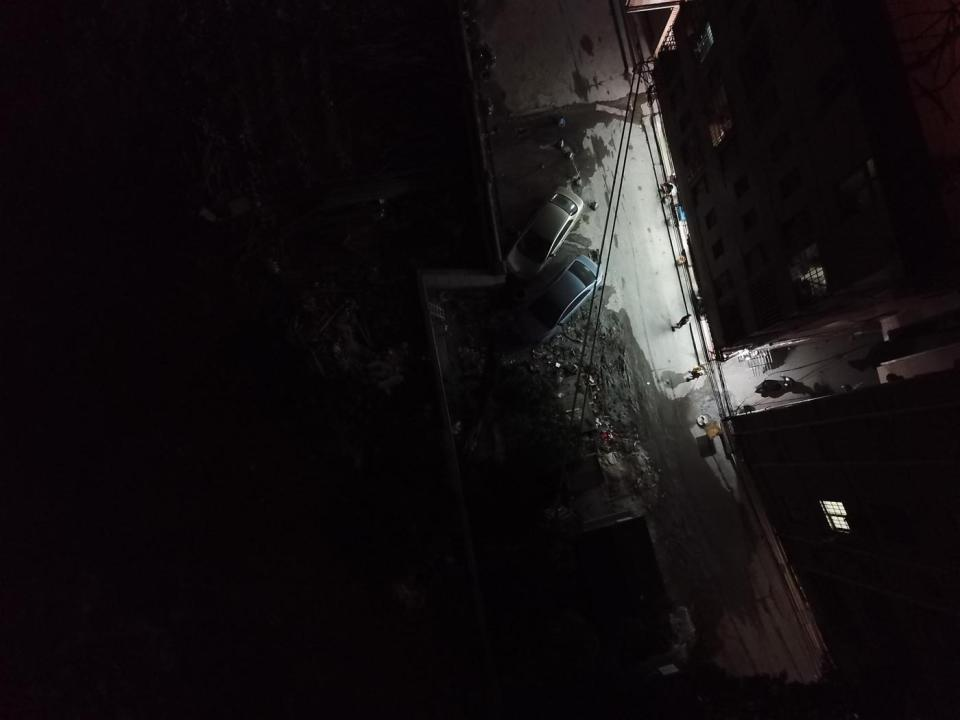car: (513, 254, 604, 345), (507, 186, 584, 280)
